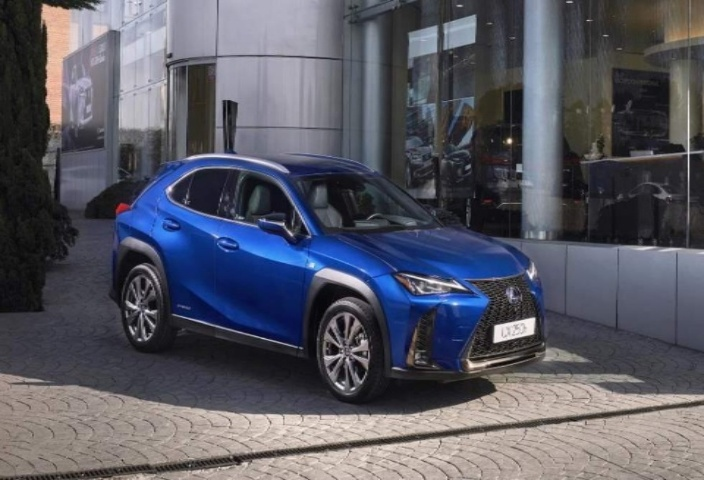camper: (87, 138, 554, 400)
